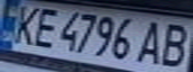4: (51, 10, 81, 53)
6: (109, 14, 142, 63)
7: (72, 10, 96, 55)
9: (93, 12, 118, 59)
A: (133, 17, 175, 66)
B: (151, 20, 193, 69)
E: (27, 5, 63, 48)
K: (6, 2, 45, 46)
